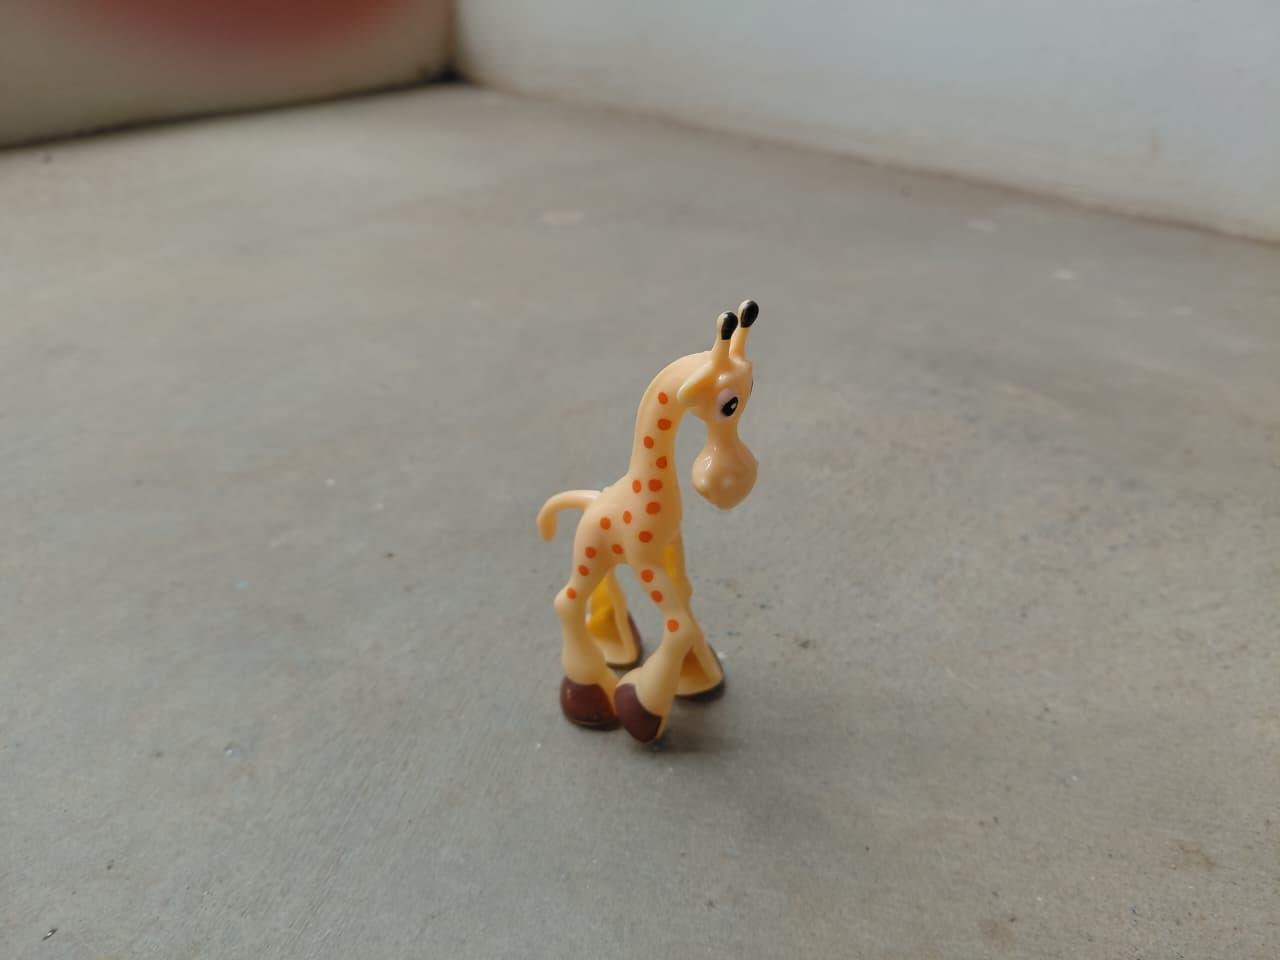giraffe: (536, 276, 768, 754)
